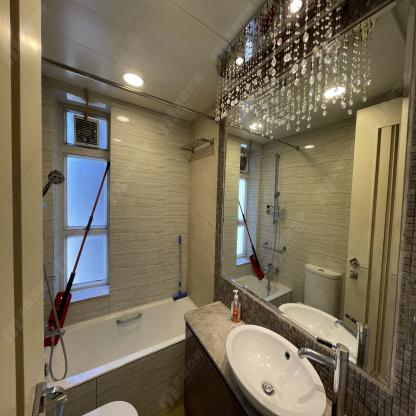Bathtub: (44, 294, 198, 416)
Exhaust Fan: (70, 110, 102, 150)
Toilet Sink: (225, 324, 328, 416)
